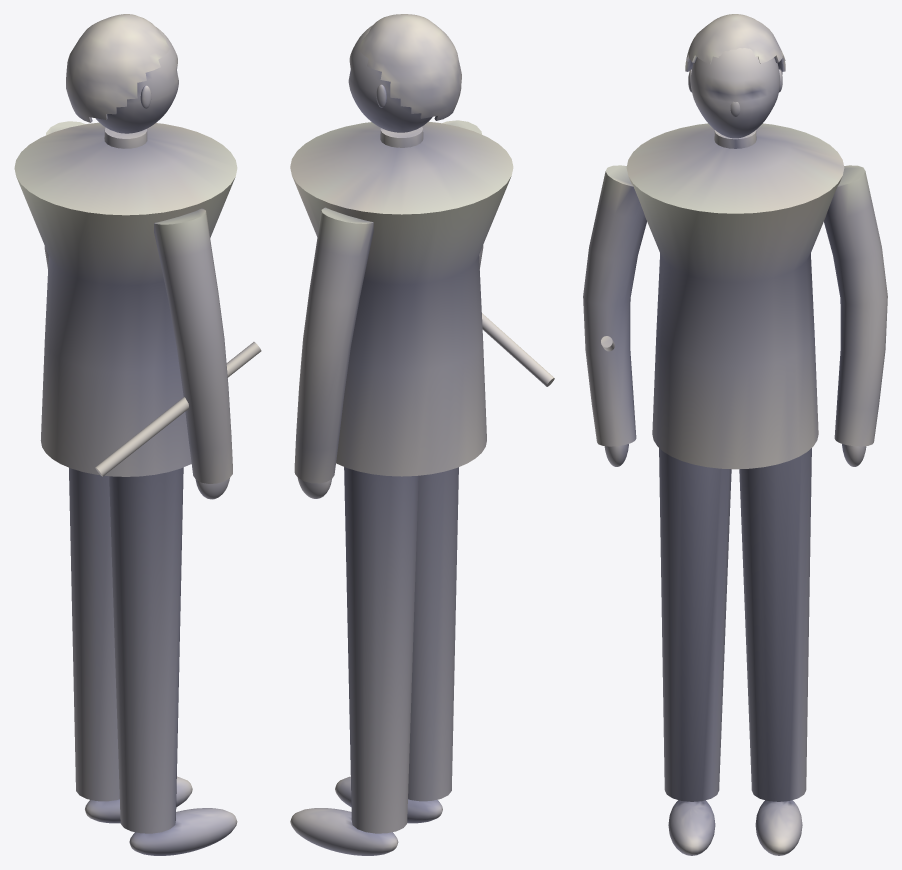
Rendered from pomfret.glb.
The picture shows the model from 3 angles, left to right: view 1: azimuth 30°, elevation 25°; view 2: azimuth 150°, elevation 25°; view 3: azimuth 270°, elevation 25°; orthographic projection. The views are drawn at different scales.
Visible parts, largest first — view 1: body; view 2: body; view 3: body.
Boxes of the visible parts, x1,y1,x2,y2 form: body: (14,14,261,855); body: (290,14,554,855); body: (583,14,887,855).
Bounding box in the file's own units: 0.44 × 1.8 × 0.6158.
